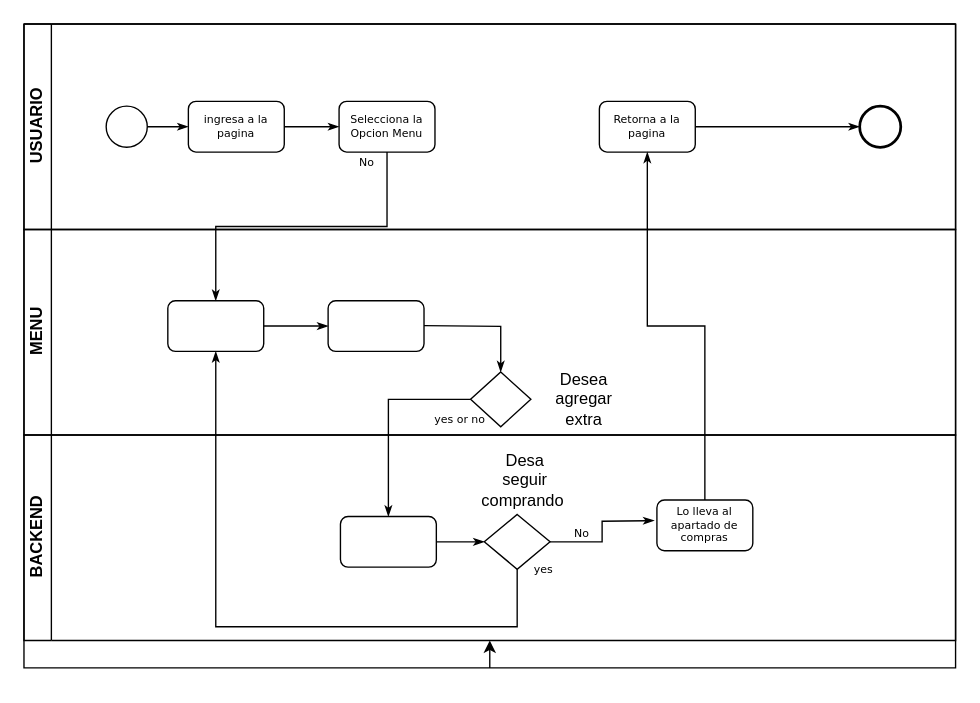
Image size: 980x703. Some labels were removed from this diagram. The centre of each missing label's shape, as x and y in pixels:
"El usuario selecciona una" belongs at (x=375, y=325).
"Se agrega al carrito" belongs at (x=387, y=541).
"Se muestra todas las pizzas" belongs at (x=215, y=325).
